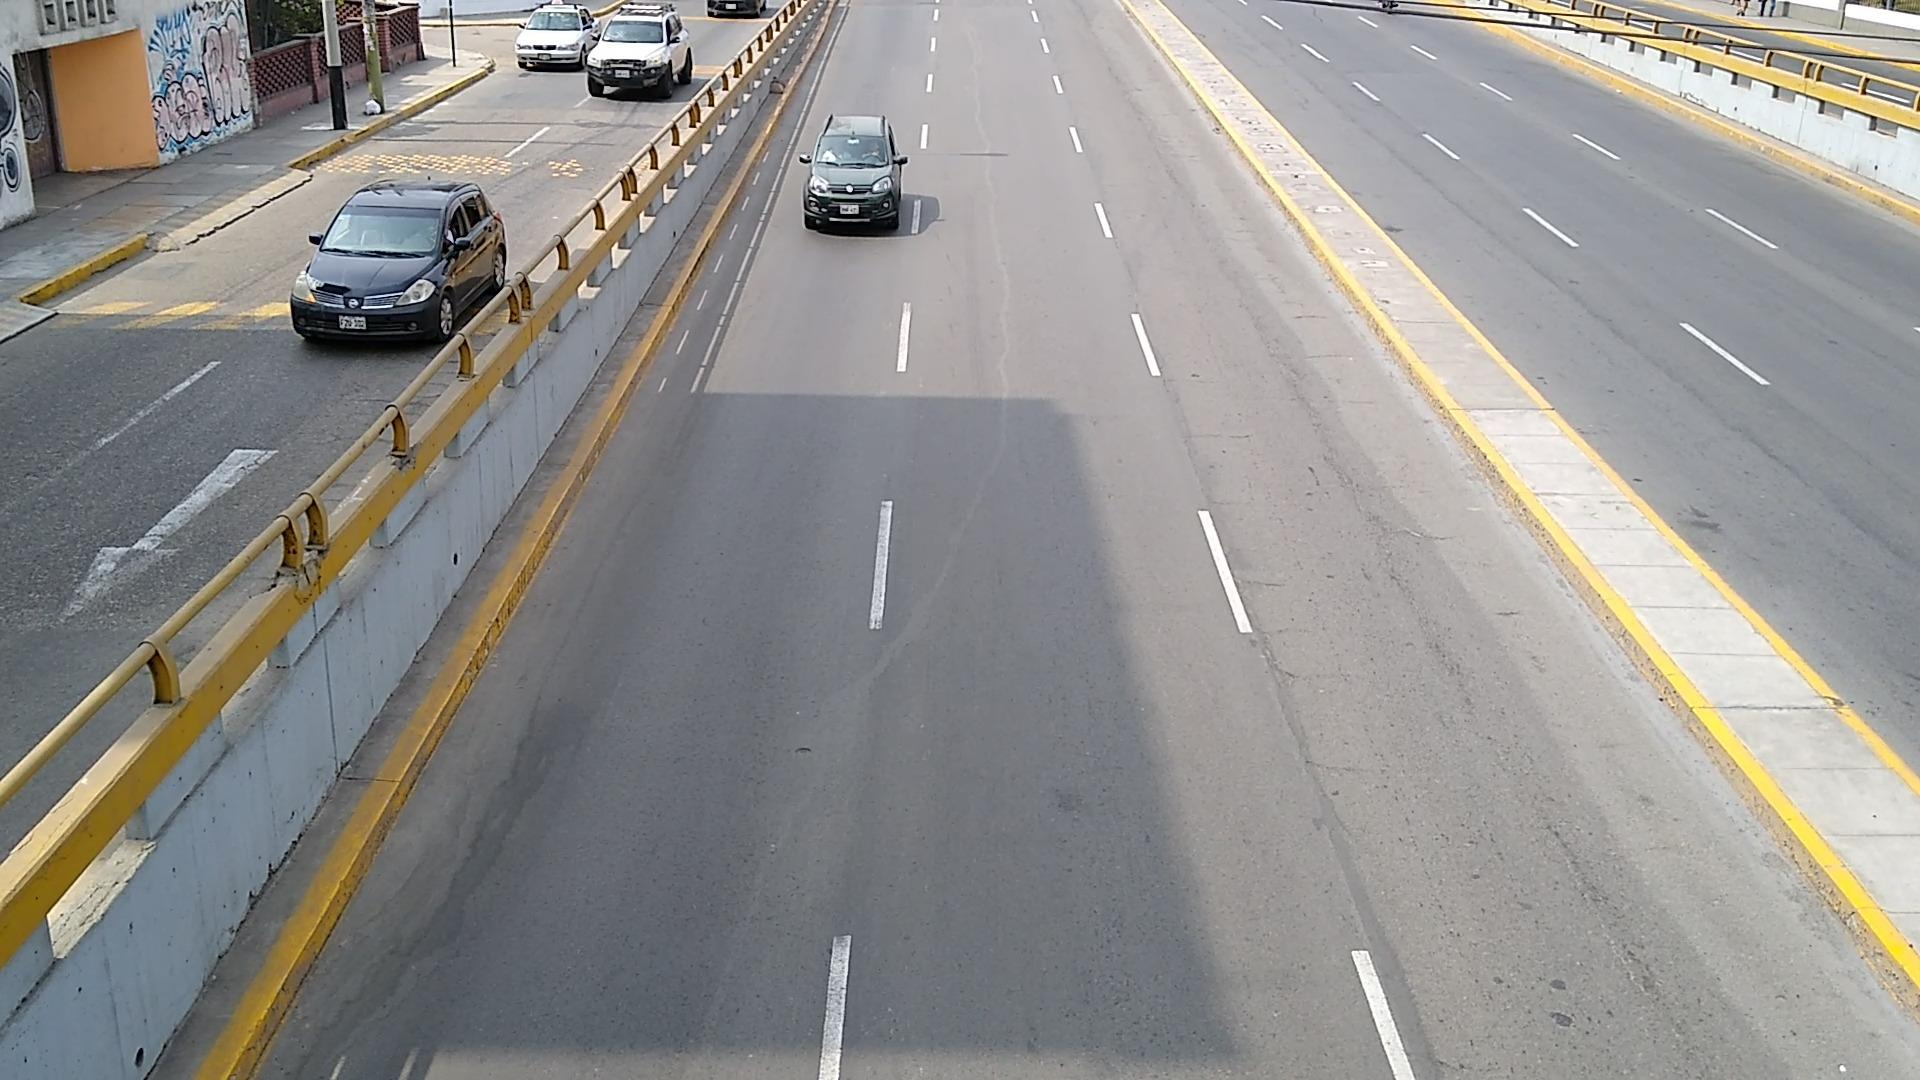car: (293, 179, 506, 342), (799, 116, 907, 228), (585, 8, 694, 98), (514, 4, 600, 66)
